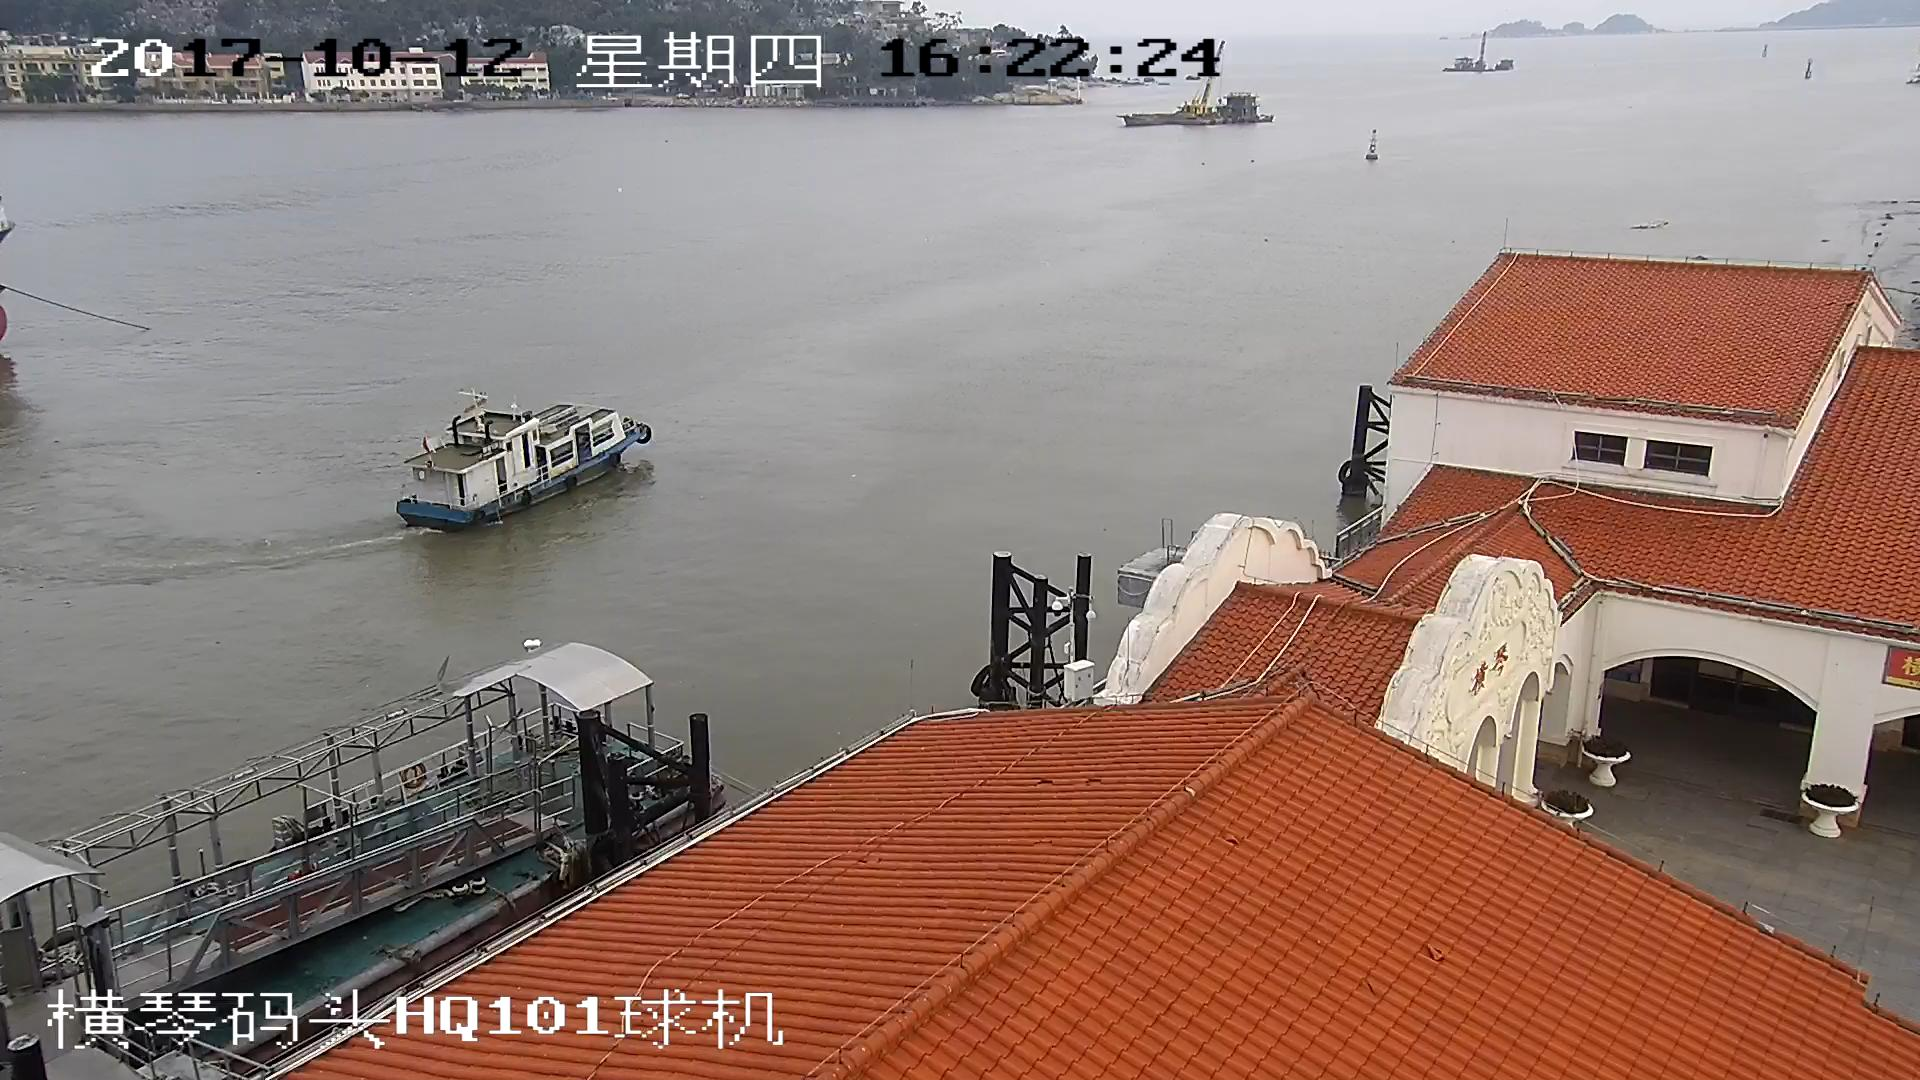fishing boat: (389, 395, 654, 520)
